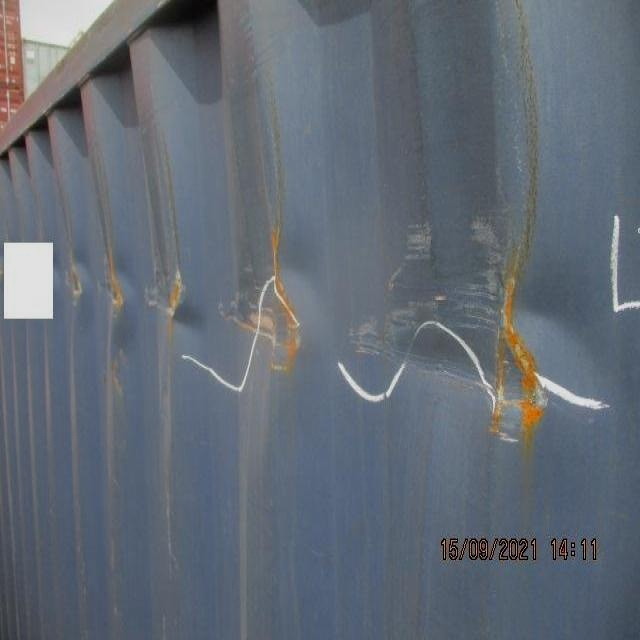Dent: (55, 172, 631, 509)
